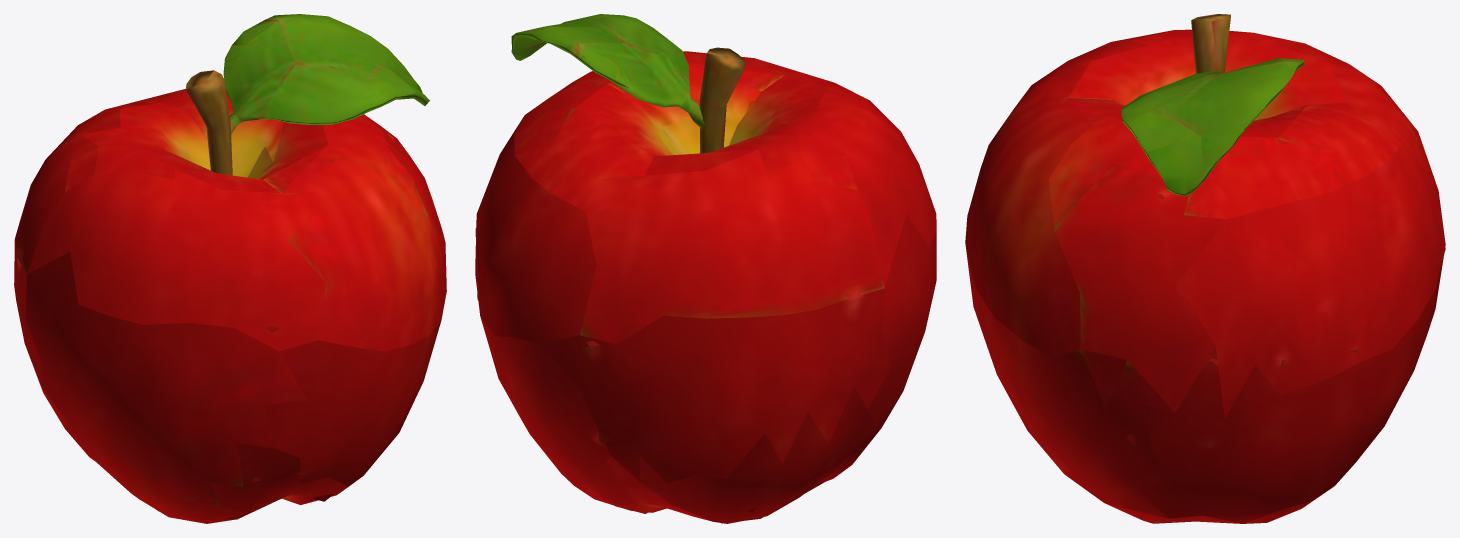
File: apple.glb
3 views of the same model, side by side, from view 1: azimuth 30°, elevation 25°; view 2: azimuth 150°, elevation 25°; view 3: azimuth 270°, elevation 25° (orthographic). The views are drawn at different scales.
Size of the model in its own units: 0.9238 by 0.998 by 0.9219.
1 material, 1 textured.
